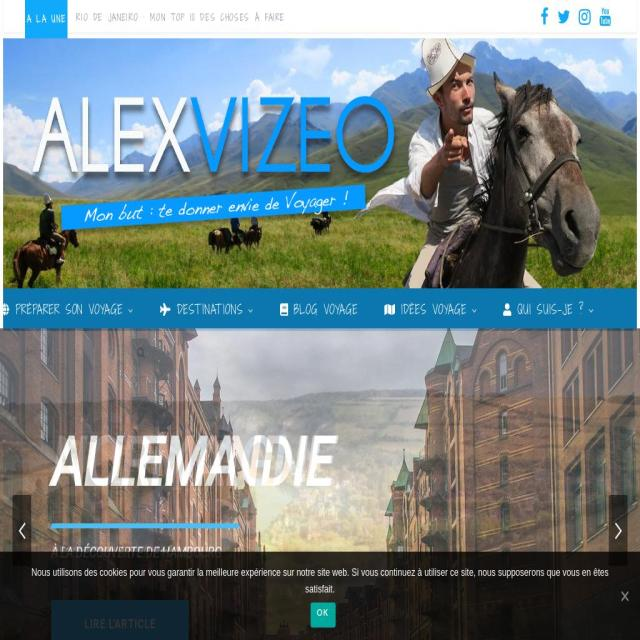button: (25, 80, 400, 247), (0, 287, 148, 331), (50, 600, 188, 640), (147, 287, 267, 331), (371, 287, 491, 331), (490, 287, 608, 331), (266, 287, 372, 331), (25, 331, 124, 374), (76, 12, 292, 23), (608, 495, 628, 566), (13, 495, 32, 566), (310, 602, 336, 628), (554, 0, 574, 33), (574, 0, 594, 33), (595, 0, 615, 33), (536, 0, 552, 33)
iframe: (588, 565, 632, 623)
image: (25, 80, 400, 247), (50, 524, 238, 528)
text: (51, 424, 335, 503), (19, 564, 621, 598), (51, 528, 335, 577), (24, 300, 615, 318), (25, 0, 68, 38), (171, 300, 244, 318), (396, 300, 468, 318), (512, 300, 584, 318), (288, 300, 358, 318), (46, 343, 111, 362), (25, 343, 49, 360)
